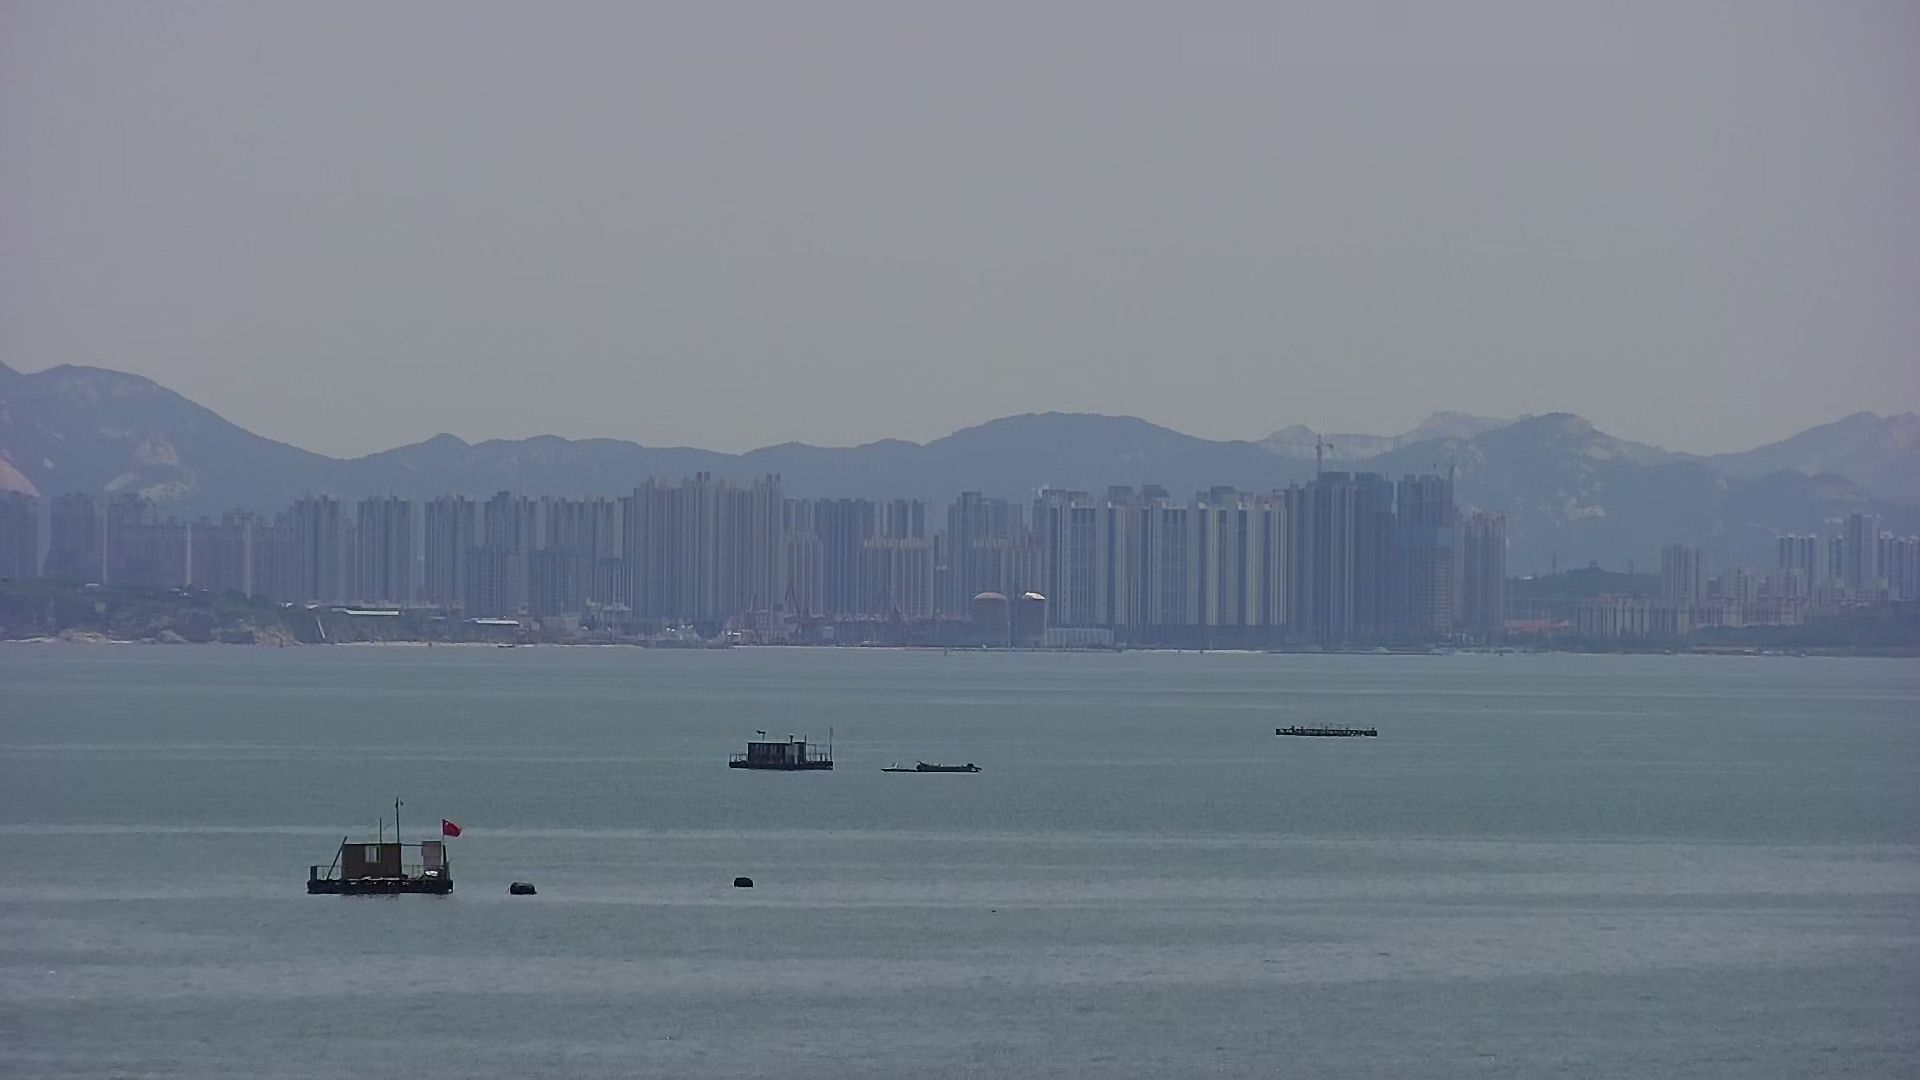ball: (506, 878, 541, 899), (728, 872, 756, 894)
platform: (293, 794, 465, 899), (725, 724, 837, 774), (1273, 719, 1385, 738)
rubbish: (882, 756, 986, 775)
